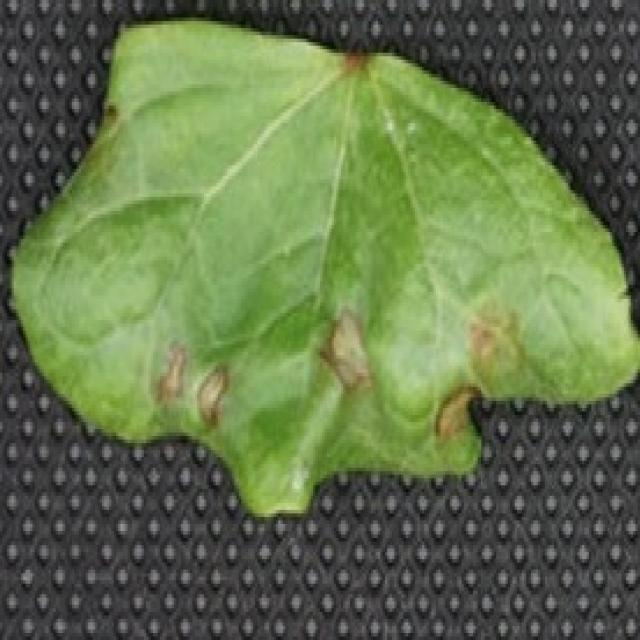Fusarium Wilt: (146, 330, 247, 427), (311, 294, 390, 402)
